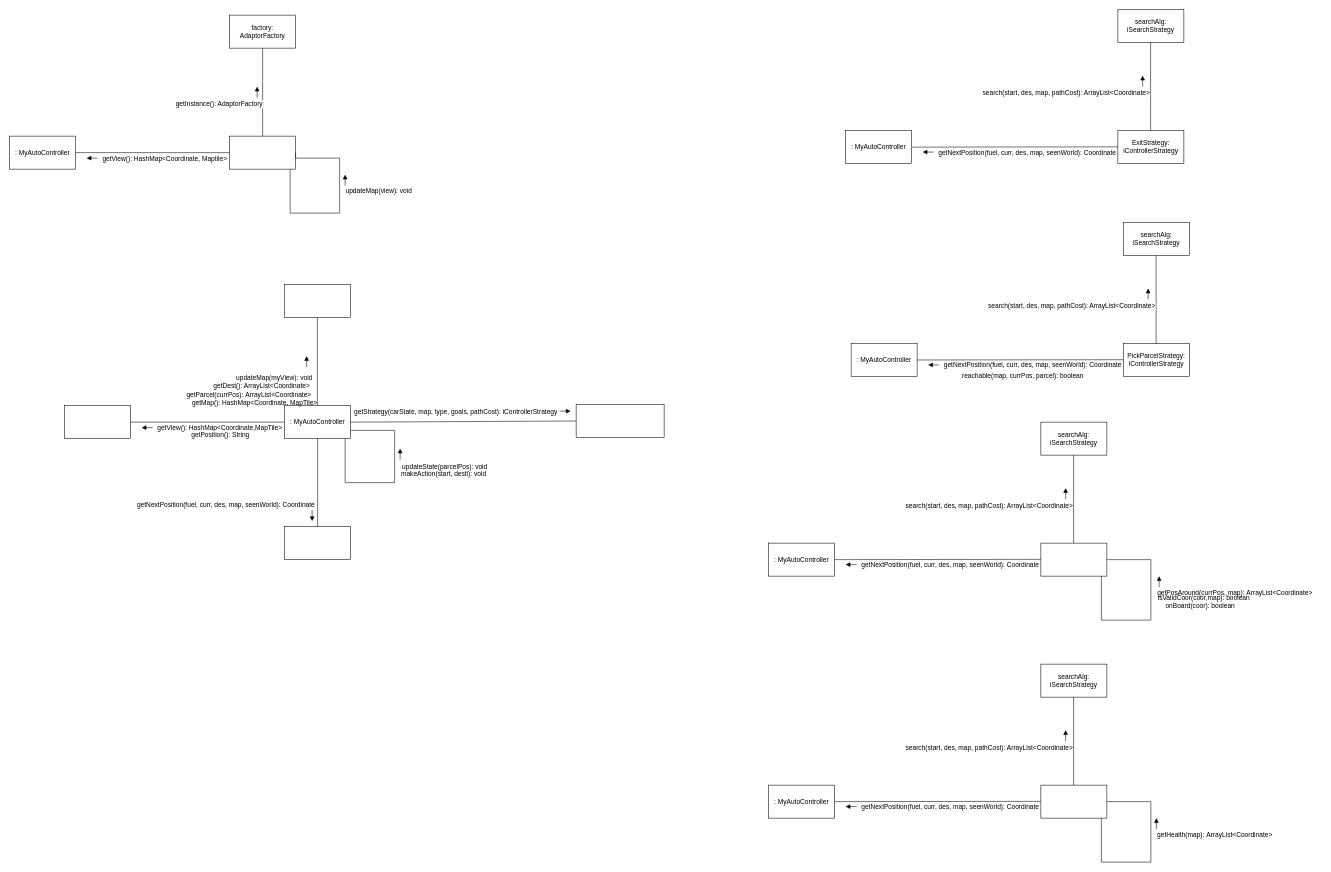
The diagram is 1331 pixels wide and 872 high, and some of its shapes have lost their labels. The centre of each missing label's shape, as x and y in pixels:
: MyMap: point (262, 152)
car: CarController: point (97, 422)
ExploreStrategy: iControllerStrategy: point (1073, 559)
HealingStrategy: iControllerStrategy: point (1073, 801)
map: MyMap: point (317, 301)
strategyfactory: ControllerStrategyFactory: point (620, 421)
temp: iControllerStrategy: point (317, 543)
